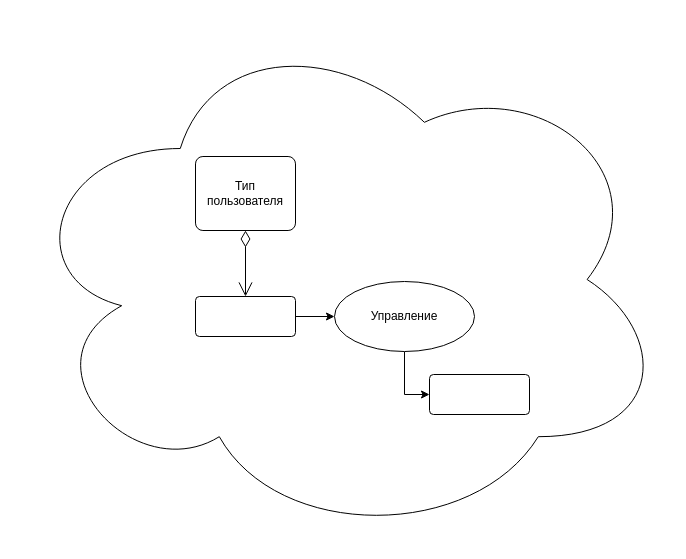
Image size: 686x559. Some labels were removed from this diagram. Each missing label, with the centre of its shape:
"Пользователь" belongs at pixel 245 316.
"Список товаров" belongs at pixel 479 394.
